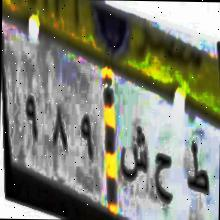7aa: (151, 140, 176, 210)
8: (48, 95, 70, 162)
9: (20, 86, 42, 151), (77, 106, 97, 166)
Taa: (180, 131, 216, 206)
sheen: (120, 122, 150, 191)
